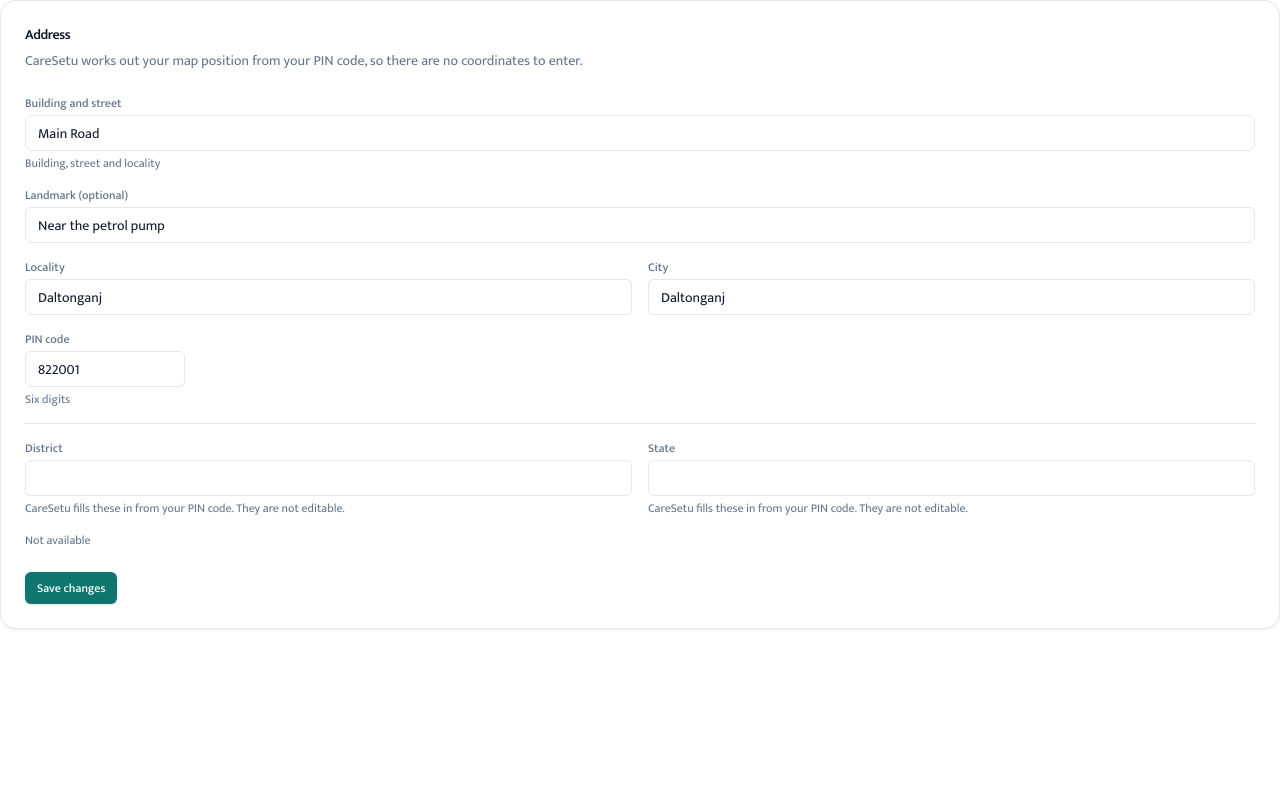
AddressSectionCard unresolvable PIN (#616 AC 3) › refuses a malformed PIN itself, before any request
The image size is (1280, 800).
Replace the text in the field with test id "profile-address-pin" with "12345": (105, 369) [25, 351, 185, 387]
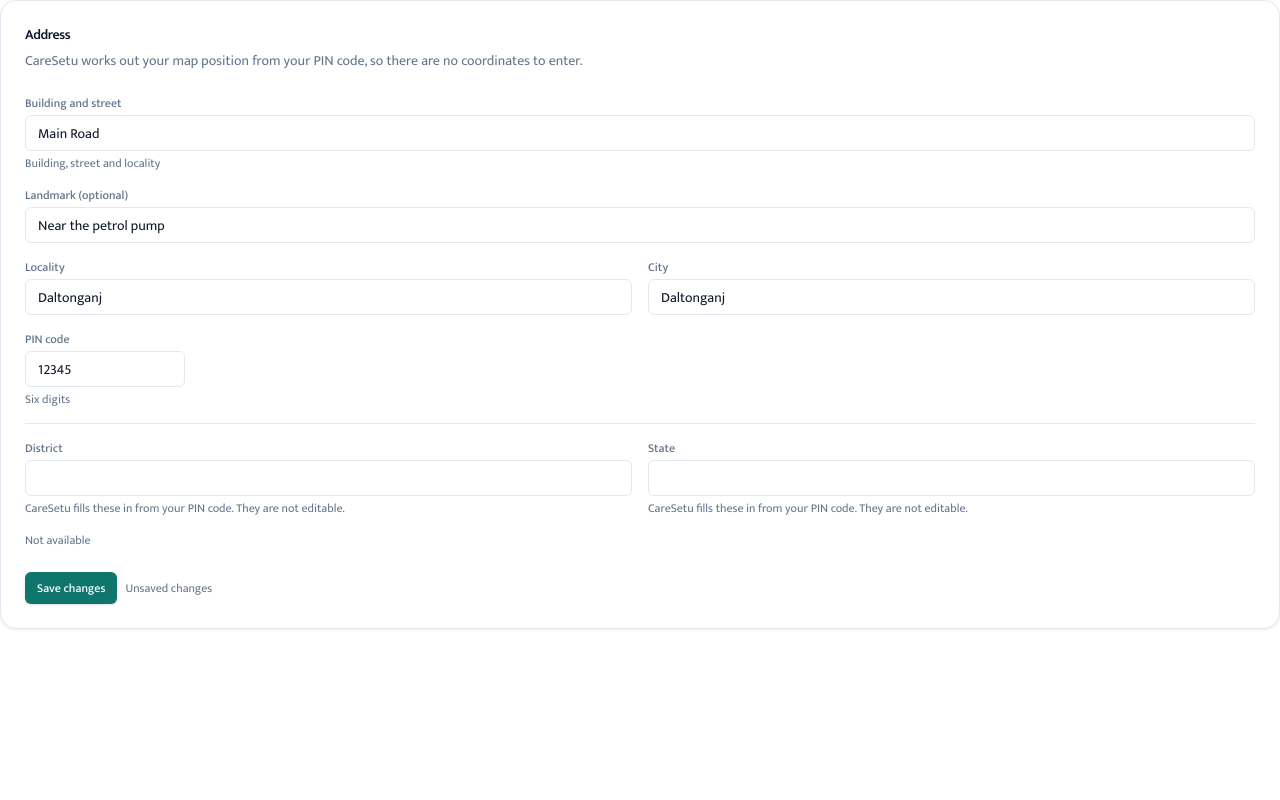
Click the button with test id "profile-address-save": (71, 588) [25, 572, 118, 604]
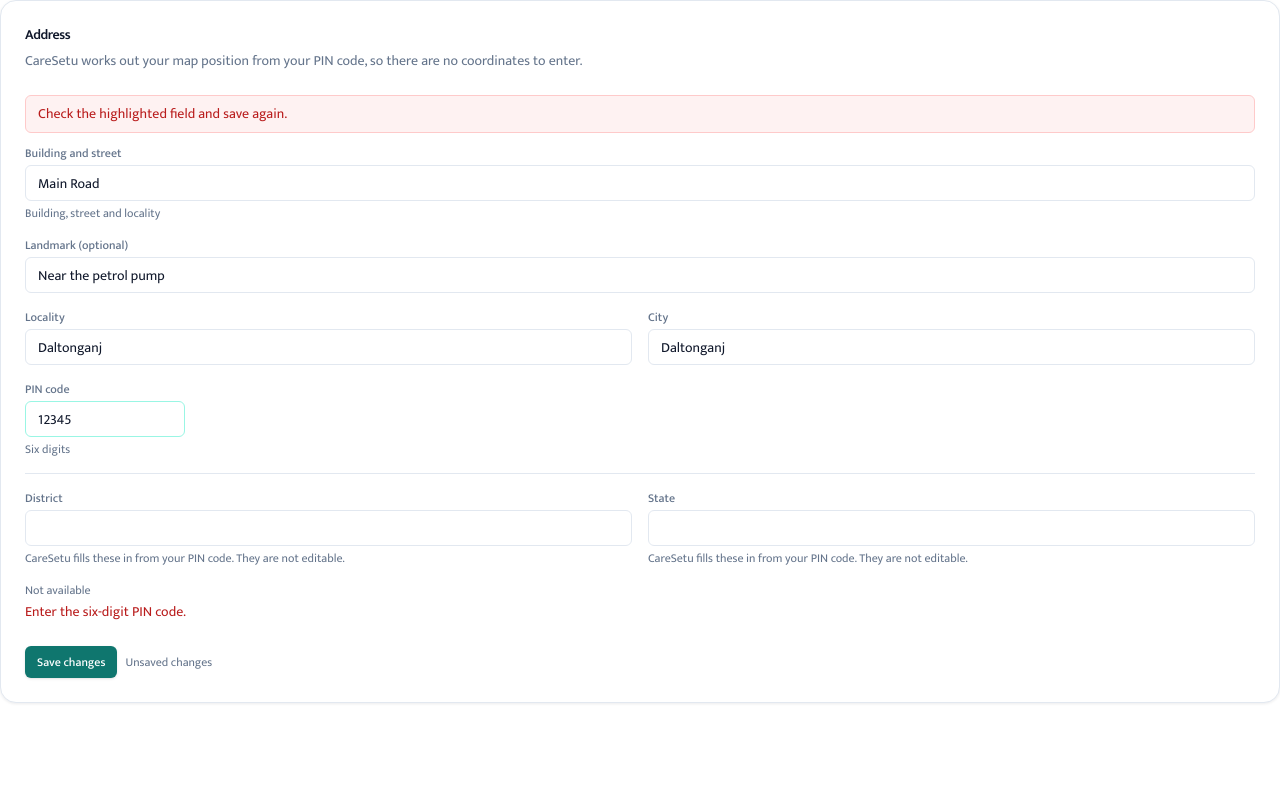
Now the message with test id "profile-address-pin-error" reads "Enter the six-digit PIN code.", box [25, 600, 186, 623]
